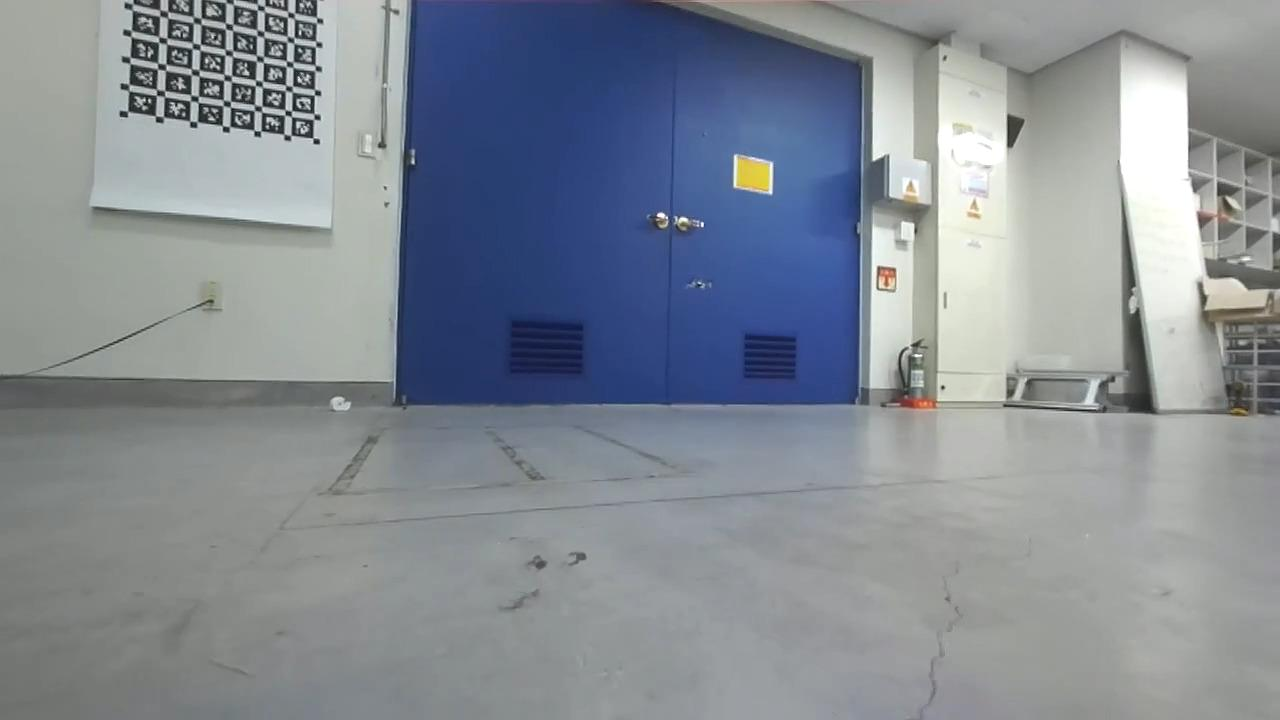crazyflie: (676, 272, 722, 296)
